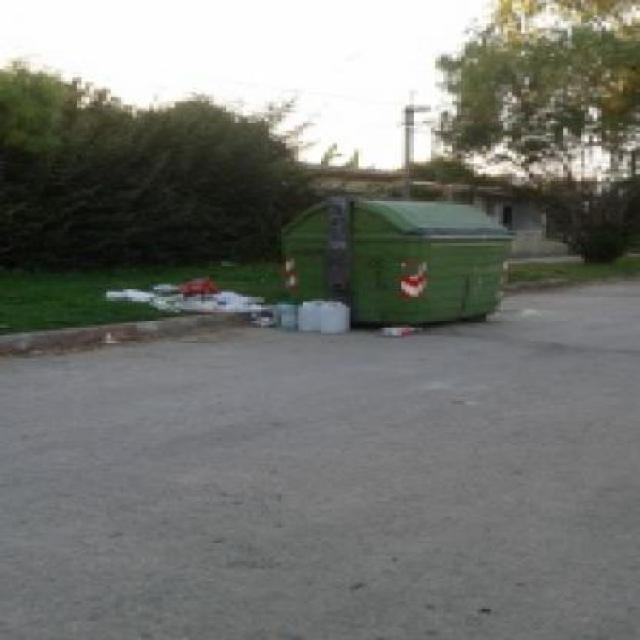garbage: (116, 271, 287, 320)
